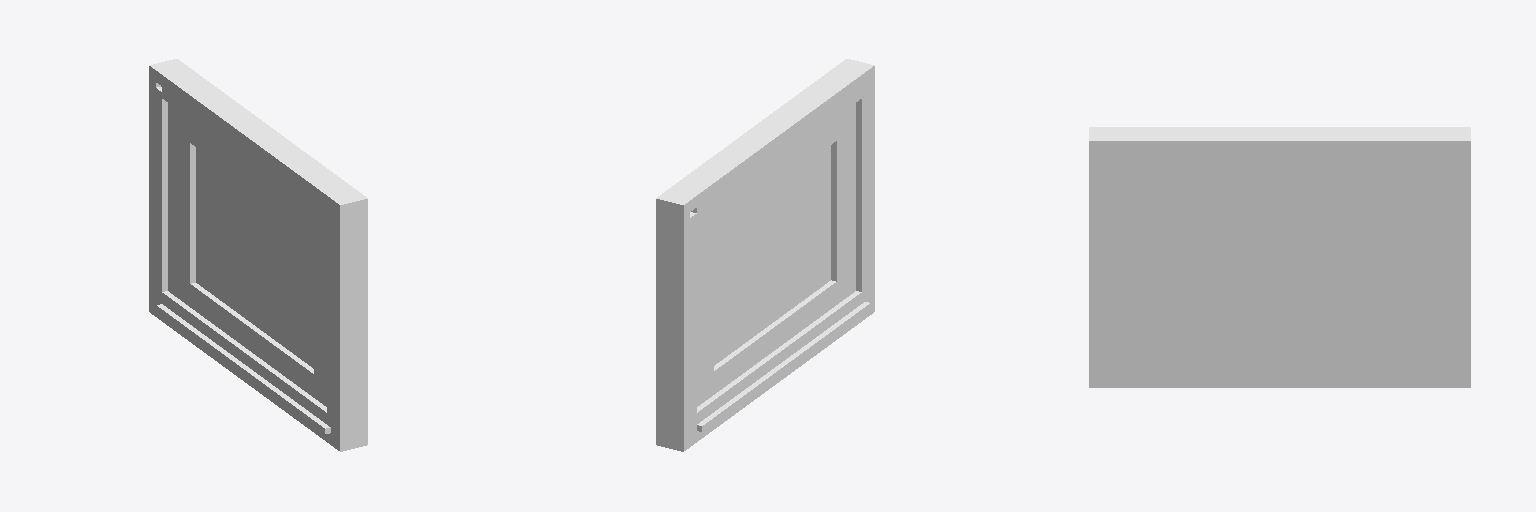
Rendered from Picture1.obj.
The picture shows the model from 3 angles: view 1: azimuth 30°, elevation 25°; view 2: azimuth 150°, elevation 25°; view 3: azimuth 270°, elevation 25°; orthographic projection.
Parts seen in each view (by area): view 1: object 1; view 2: object 1; view 3: object 1.
Part boxes in pixels (left/top/right/bottom): object 1: left=149, top=59, right=367, bottom=451; object 1: left=656, top=59, right=874, bottom=451; object 1: left=1089, top=127, right=1470, bottom=387.
Size of the model in its own units: 0.6 by 4.2 by 5.9.